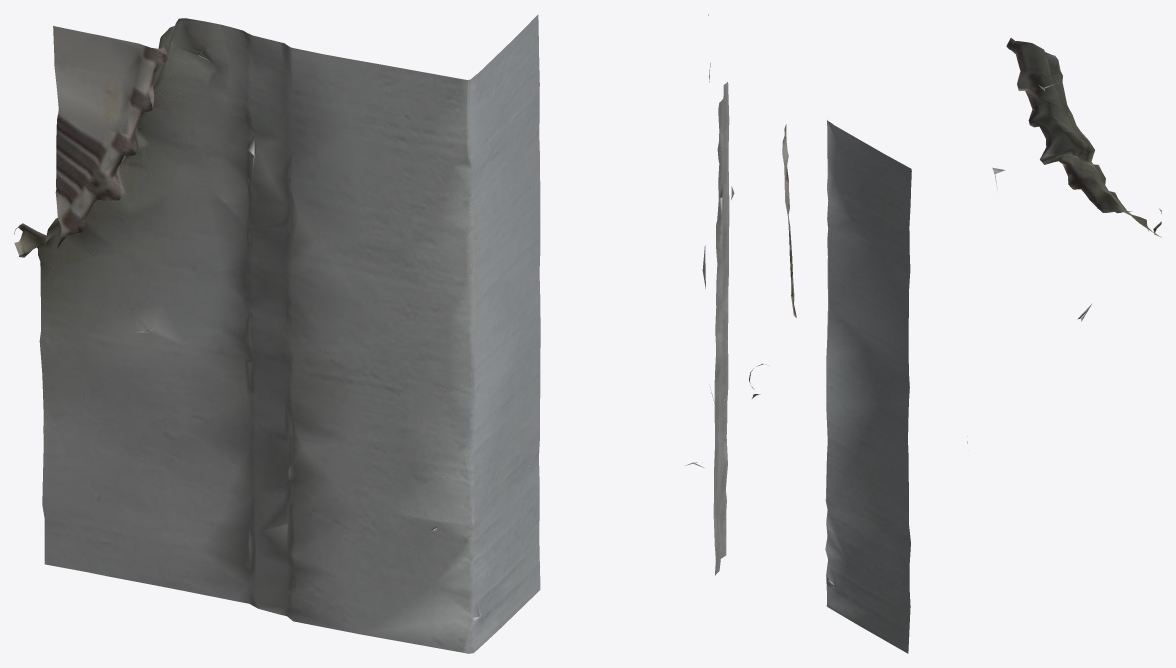
3 views of the same model, side by side, from view 1: azimuth 30°, elevation 25°; view 2: azimuth 150°, elevation 25°; view 3: azimuth 270°, elevation 25° (orthographic). The views are drawn at different scales.
Bounding box in the file's own units: 2.71 × 3.96 × 2.49.
1 material, 1 textured.
